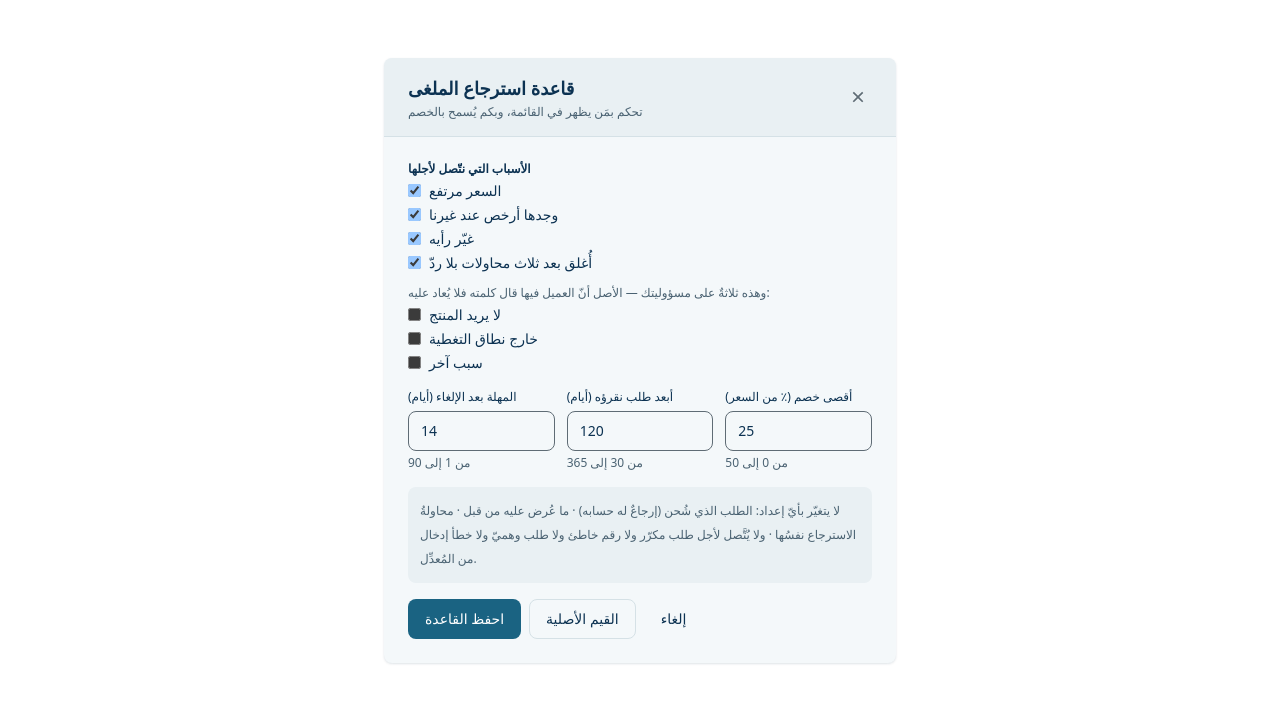
Test: what it refuses before it sends › — no reason ticked: «اختر سبباً واحداً على الأقلّ»
Click the checkbox labelled "السعر مرتفع": (414, 190) [408, 184, 421, 197]
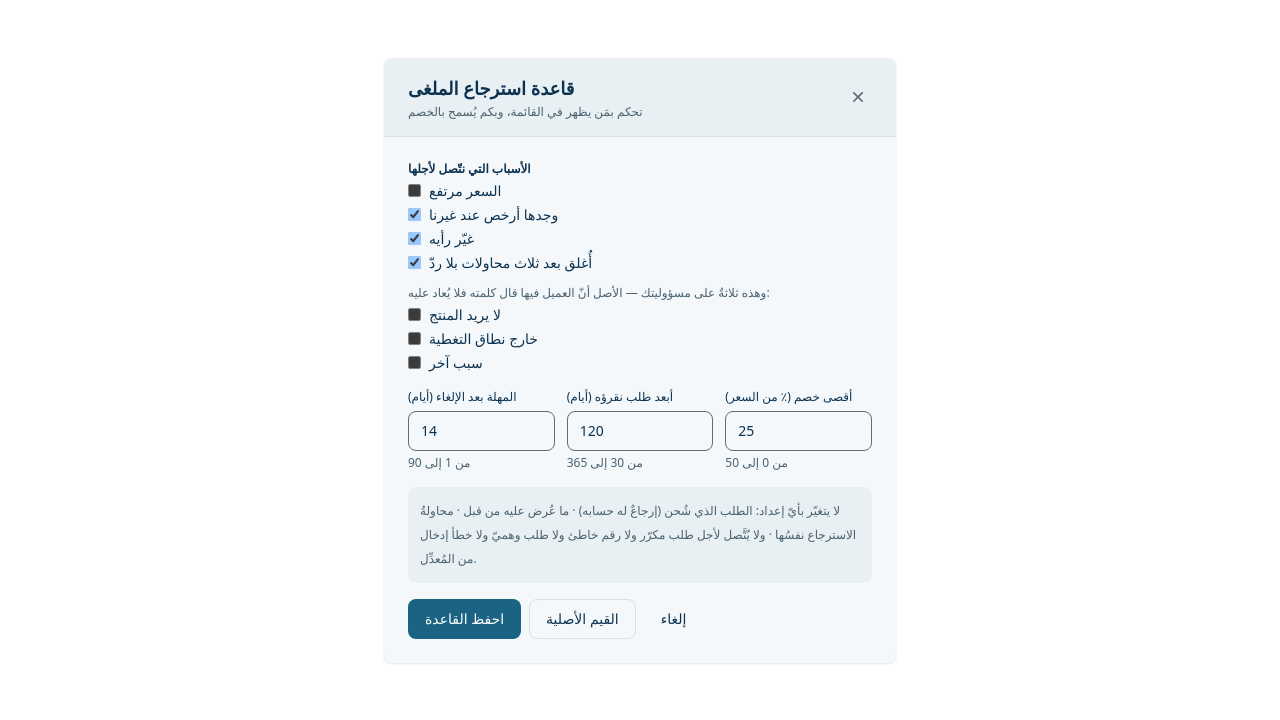
Click the checkbox labelled "وجدها أرخص عند غيرنا": (414, 214) [408, 208, 421, 221]
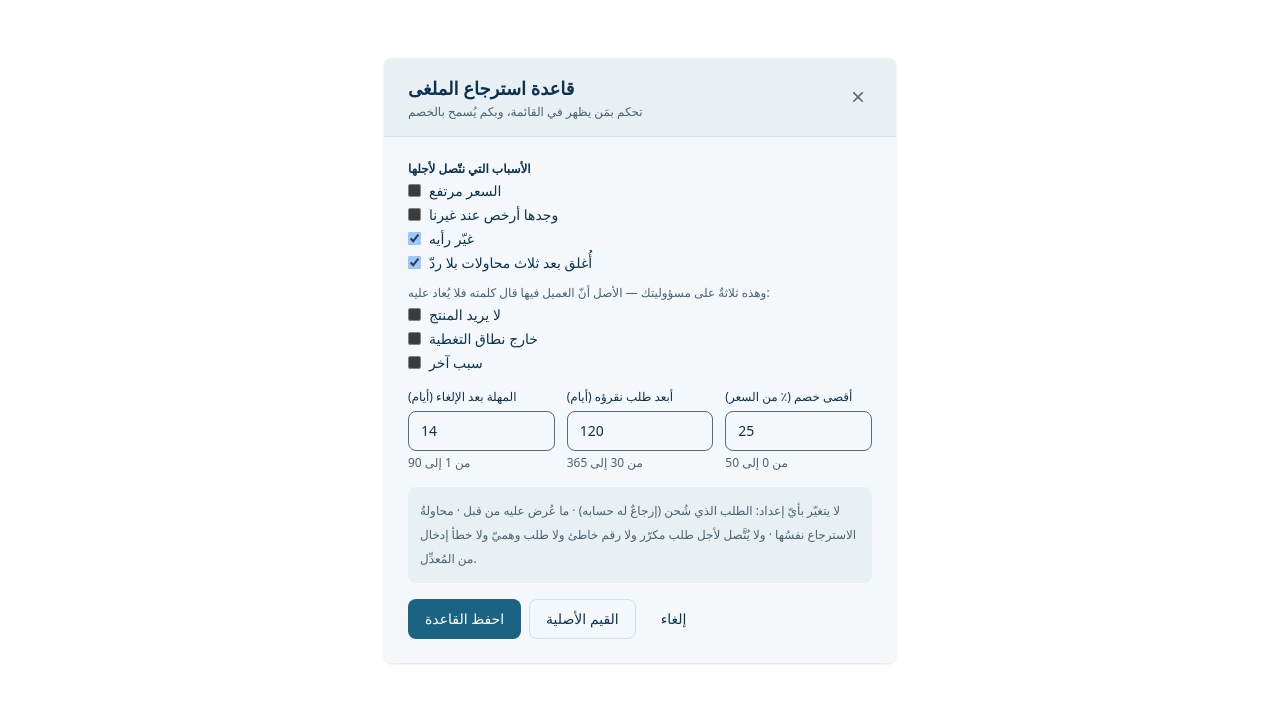
Click the checkbox labelled "غيّر رأيه": (414, 238) [408, 232, 421, 245]
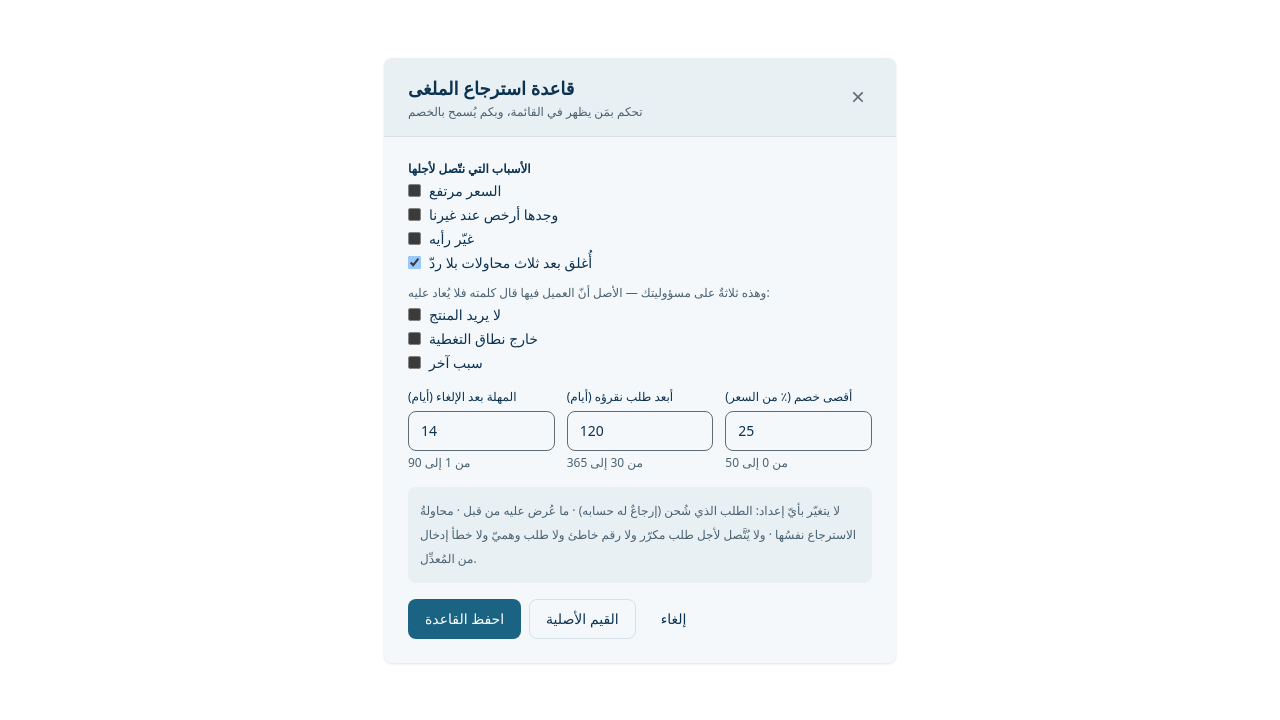
Click the checkbox labelled "أُغلق بعد ثلاث محاولات بلا ردّ": (414, 262) [408, 256, 421, 269]
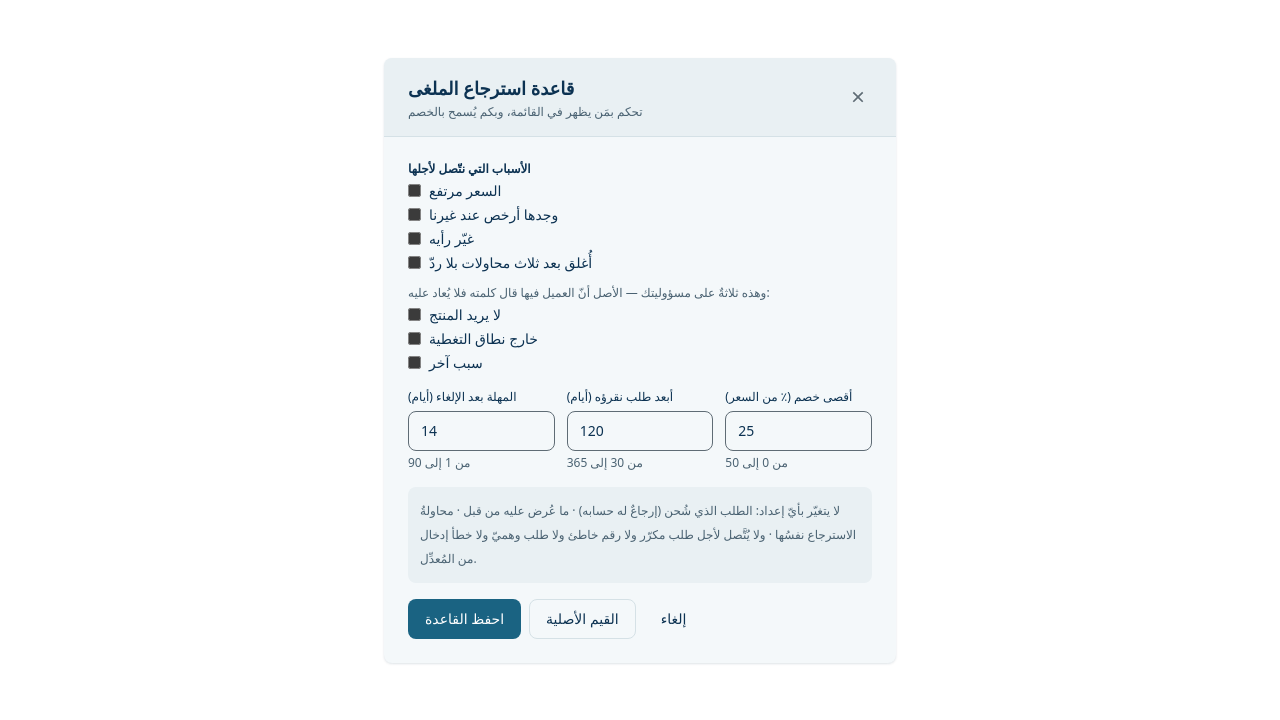
Click the button "احفظ القاعدة": (465, 618) [408, 598, 521, 638]
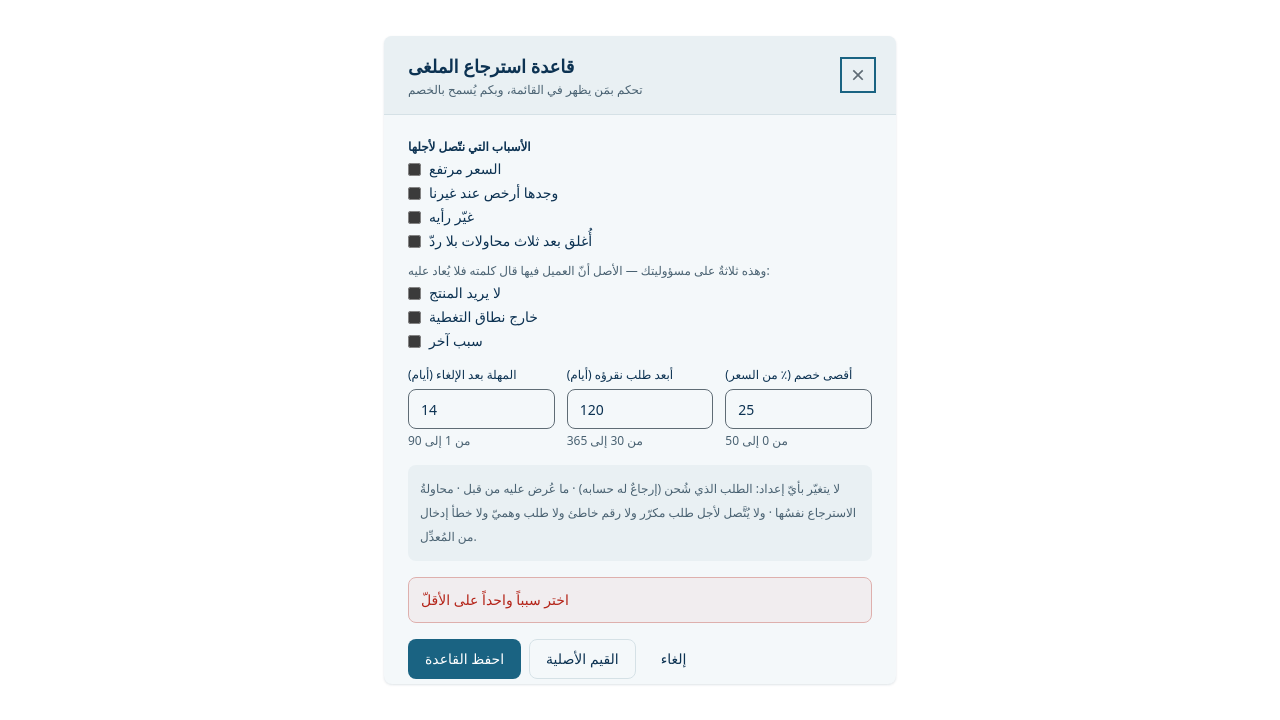
Expected: the message reads "اختر سبباً واحداً على الأقلّ", [421, 590, 569, 609]
